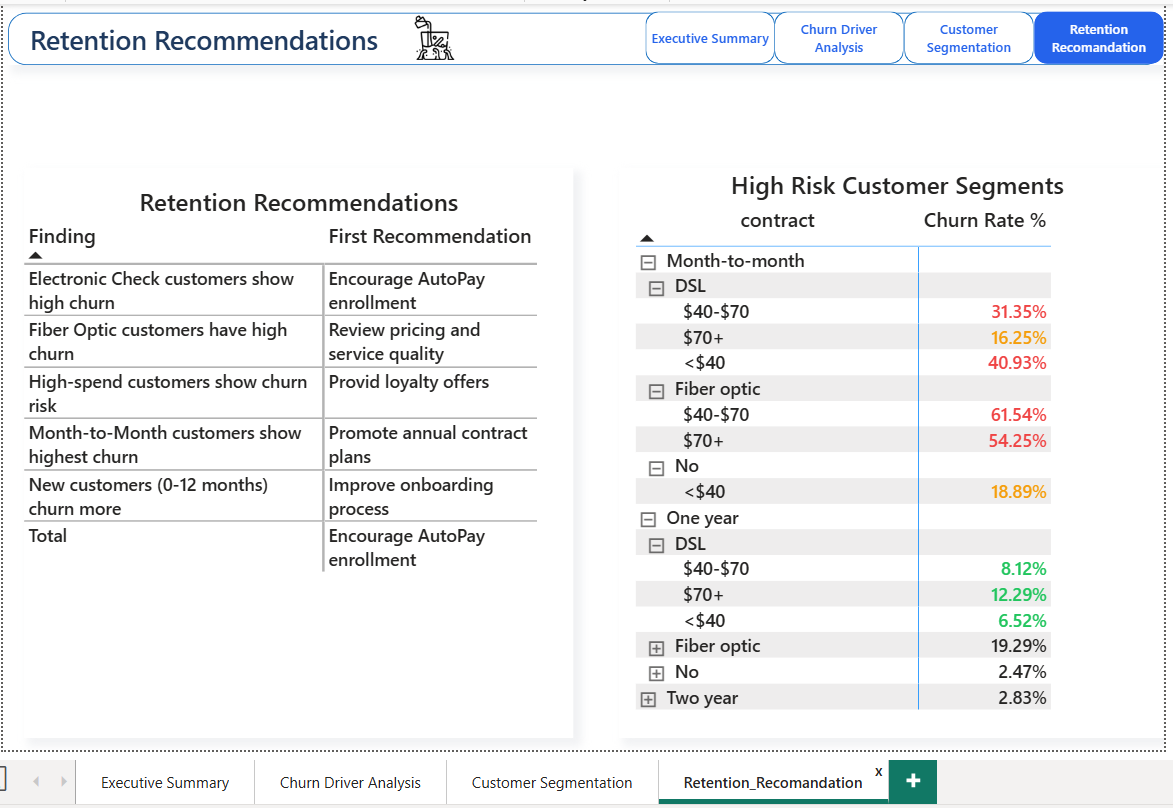

Layout of this report page (visuals, bound fields, positions):
{"tool":"powerbi","page":{"name":"Retention_Recomandation","canvas":[1400,900],"ordinal":3},"visuals":[{"type":"pivotTable","title":"Retention Recommendations","fields":{"Rows":["Retention_Recommendations.Finding"],"Values":["Min(Retention_Recommendations.Recommendation)"]},"box":[25.2,197.3,662.8,688],"z":0},{"type":"pivotTable","title":"High Risk Customer Segments","fields":{"Rows":["dim_contract.contract","dim_service.internet_service","fact_churn.Charge Segment"],"Values":["Measures Table.Churn Rate %"]},"box":[743.2,197.3,656.5,688],"z":1000},{"type":"shape","box":[6.6,10,1393.4,63.1],"z":2000},{"type":"shape","box":[1243.5,9.5,156.2,63.1],"z":3000},{"type":"shape","box":[1087.3,9.5,156.2,63.1],"z":4000},{"type":"shape","box":[931,9.5,156.2,63.1],"z":5000},{"type":"shape","box":[774.8,9.5,156.2,63.1],"z":6000},{"type":"image","box":[470.3,9.5,99.4,63.1],"z":7000}]}

Visuals, with their boxes on the page's 1400x900 design canvas (x1, y1, x2, y2). These are canvas units, not pixel positions in the 1173x808 screenshot, which may show the page scaled, cropped or inside an application window:
"Retention Recommendations" pivotTable: <box>25,197,688,885</box>
"High Risk Customer Segments" pivotTable: <box>743,197,1400,885</box>
shape: <box>7,10,1400,73</box>
shape: <box>1244,10,1400,73</box>
shape: <box>1087,10,1244,73</box>
shape: <box>931,10,1087,73</box>
shape: <box>775,10,931,73</box>
image: <box>470,10,570,73</box>
